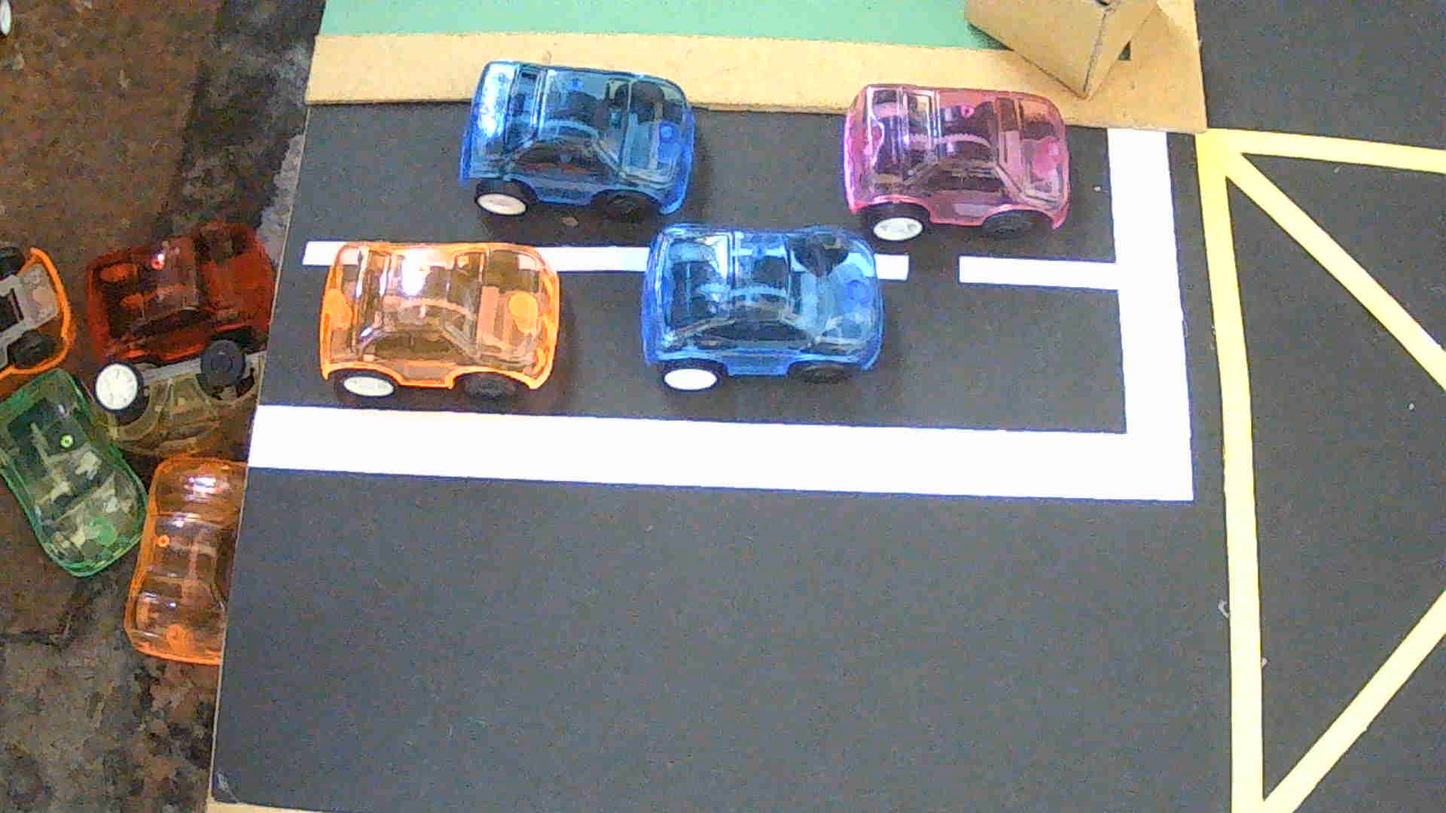Mobil biru: (640, 224, 883, 391), (459, 61, 694, 220)
Mobil orange: (319, 242, 560, 400)
Mobil ungu: (841, 84, 1070, 242)
